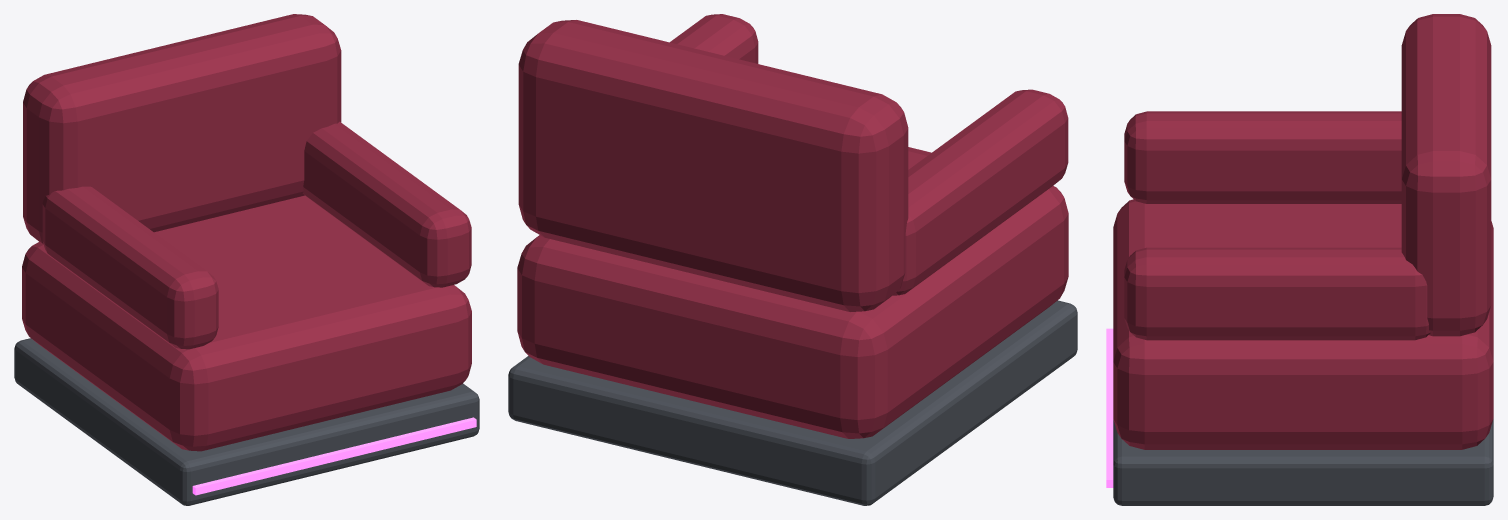
Rendered from armchair_cube.glb.
3 renders of one model, left to right at view 1: azimuth 30°, elevation 25°; view 2: azimuth 150°, elevation 25°; view 3: azimuth 270°, elevation 25°, orthographic. The views are drawn at different scales.
Parts seen in each view (by area): view 1: GD_armchair_cube__m1, GD_armchair_cube__m0, GD_armchair_cube__m2; view 2: GD_armchair_cube__m1, GD_armchair_cube__m0; view 3: GD_armchair_cube__m1, GD_armchair_cube__m0, GD_armchair_cube__m2.
Boxes of the visible parts, x1,y1,x2,y2 form: GD_armchair_cube__m1: (22, 14, 471, 451); GD_armchair_cube__m0: (14, 338, 479, 505); GD_armchair_cube__m2: (192, 417, 476, 495); GD_armchair_cube__m1: (517, 14, 1068, 438); GD_armchair_cube__m0: (508, 300, 1077, 505); GD_armchair_cube__m1: (1113, 14, 1493, 449); GD_armchair_cube__m0: (1113, 419, 1493, 505); GD_armchair_cube__m2: (1106, 328, 1113, 487).
Bounding box in the file's own units: 0.86 × 0.85 × 0.865.
